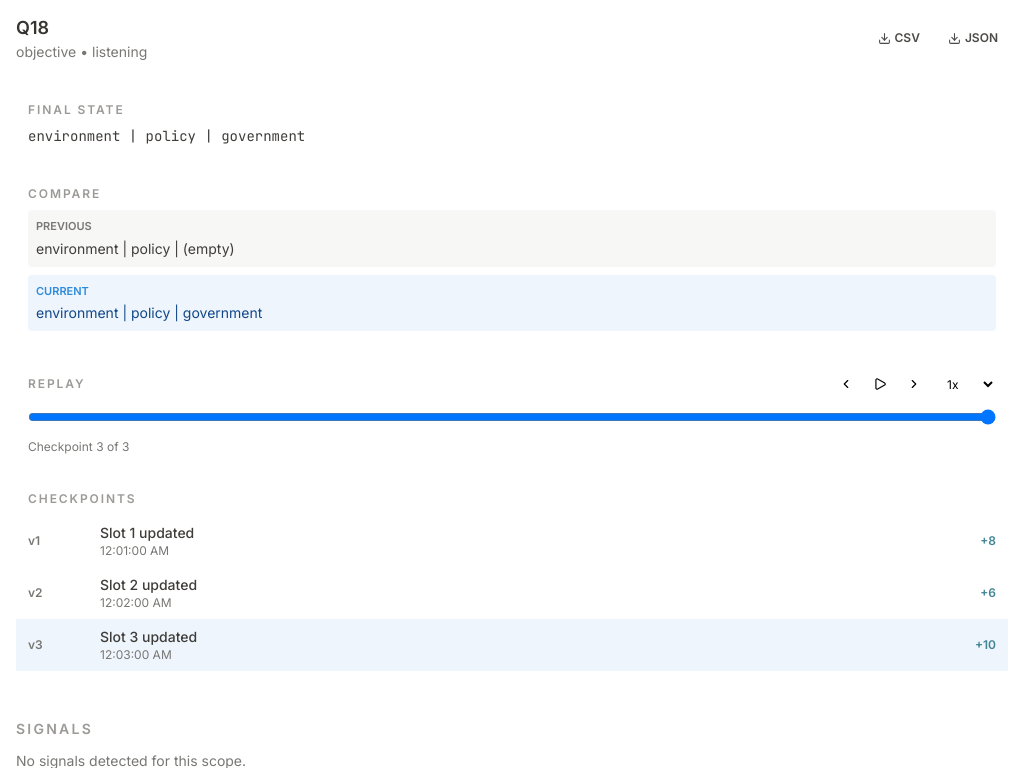
Test: AnswerHistoryPage › supports replay stepping controls
(page scrolled)
Expected: the text "Checkpoint 3 of 3" is shown, top-left (28, 439), bottom-right (129, 454)
Click the button named "Previous checkpoint" at (846, 384), box top-left (833, 371), bottom-right (859, 397)
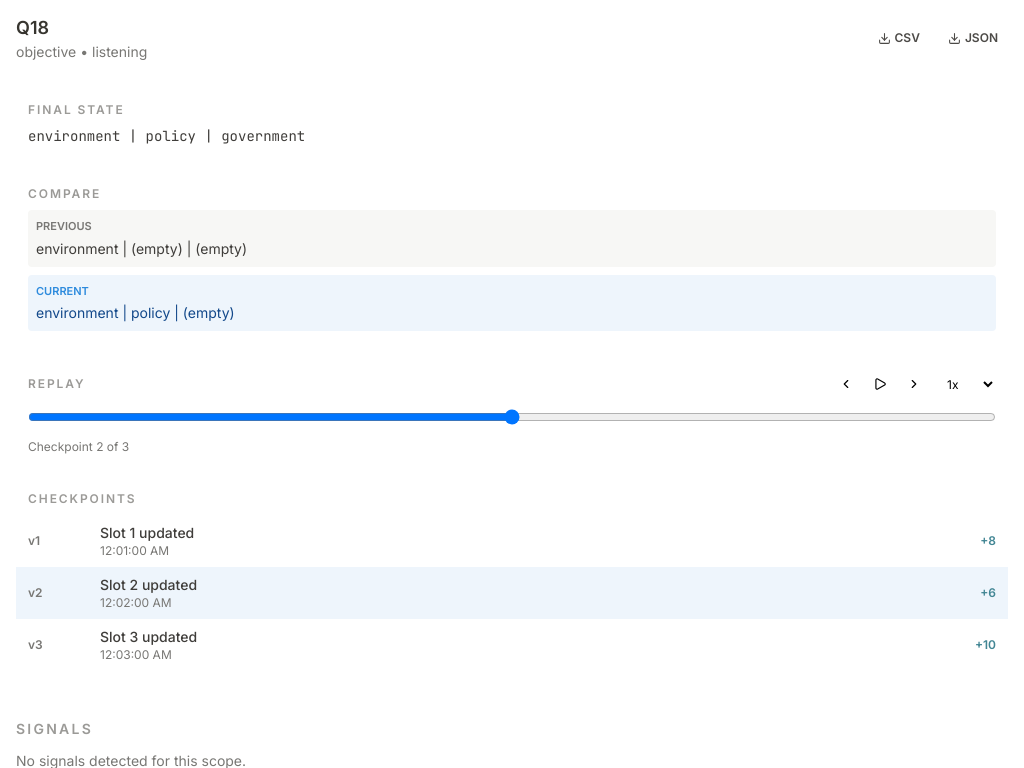
Expected: the text "Checkpoint 2 of 3" is shown, top-left (28, 439), bottom-right (129, 454)
Click the button named "Next checkpoint" at (914, 384), box top-left (901, 371), bottom-right (927, 397)
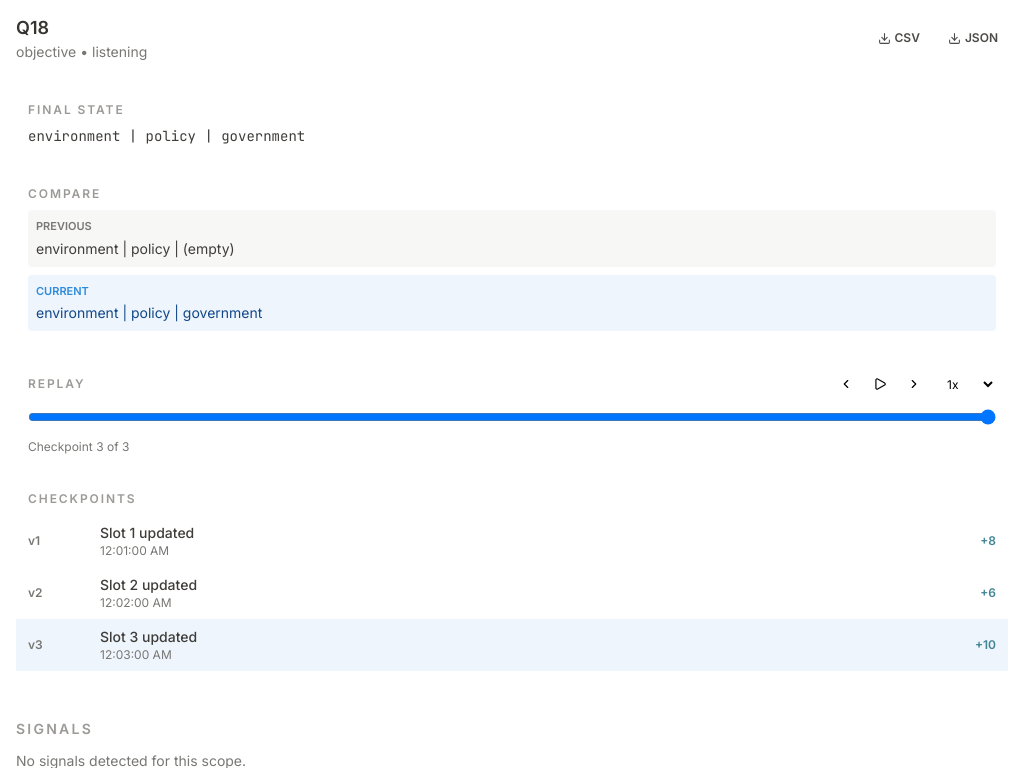
Expected: the text "Checkpoint 3 of 3" is shown, top-left (28, 439), bottom-right (129, 454)
